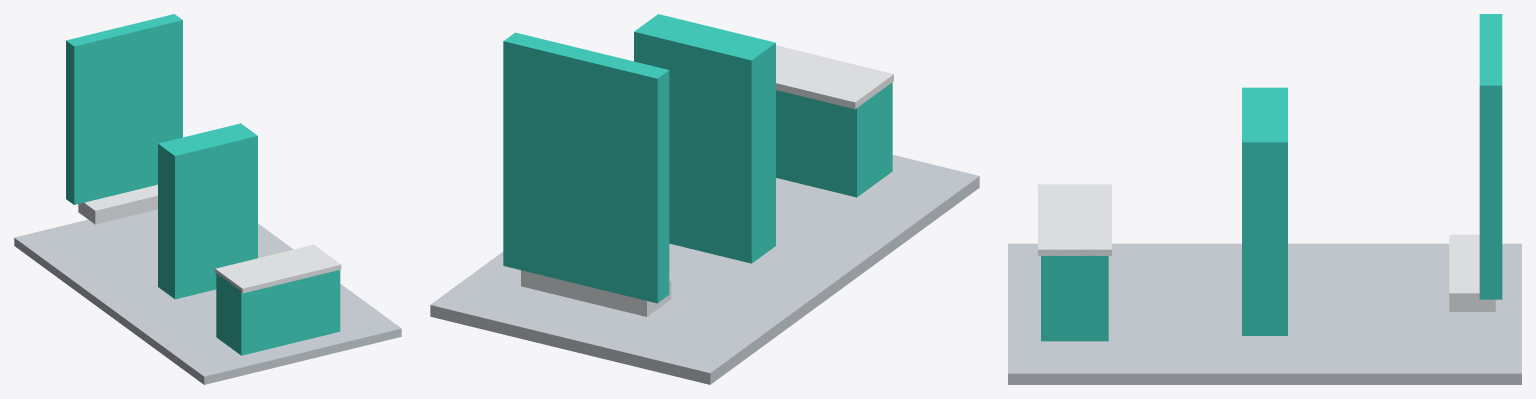
3 renders of one model, left to right at view 1: azimuth 30°, elevation 25°; view 2: azimuth 150°, elevation 25°; view 3: azimuth 270°, elevation 25°, orthographic. The views are drawn at different scales.
Visible parts, largest first — view 1: Exhibition Booth Concept; view 2: Exhibition Booth Concept; view 3: Exhibition Booth Concept.
Part boxes in pixels (<box>): Exhibition Booth Concept: <box>14,14,401,384</box>; Exhibition Booth Concept: <box>430,14,979,384</box>; Exhibition Booth Concept: <box>1008,14,1521,384</box>.
Bounding box in the file's own units: 3 × 2.9 × 5.
